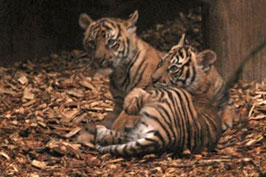Tigre: (155, 41, 227, 133), (72, 8, 147, 68)
